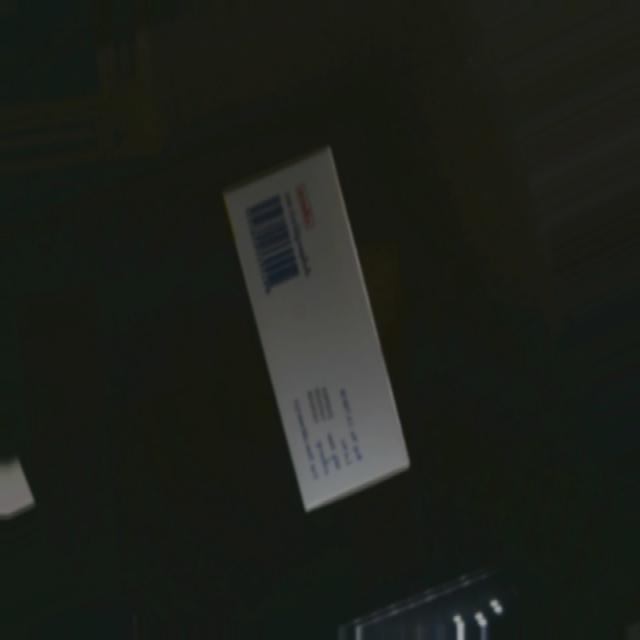sefloc: (215, 150, 412, 507)
